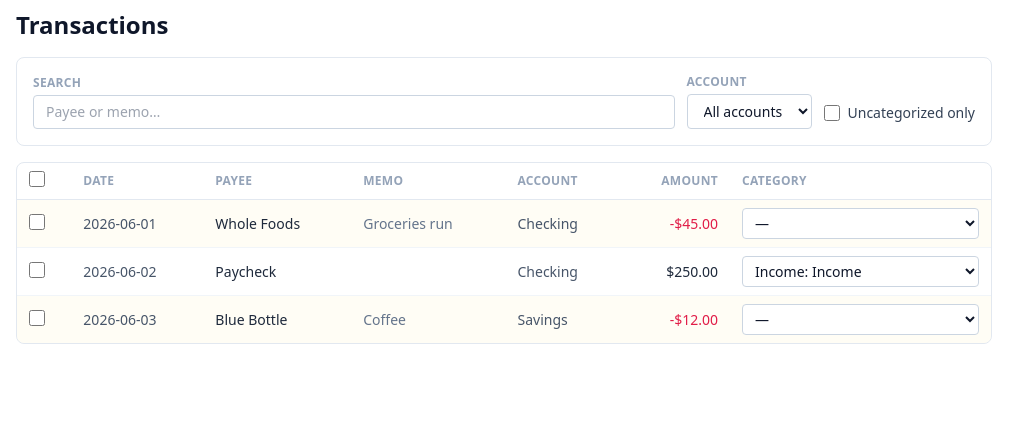
TransactionsPage › select-all header checkbox selects every row
Step 1. Click the checkbox named "Select all transactions" → (37,179), box top-left (29, 171), bottom-right (45, 187)
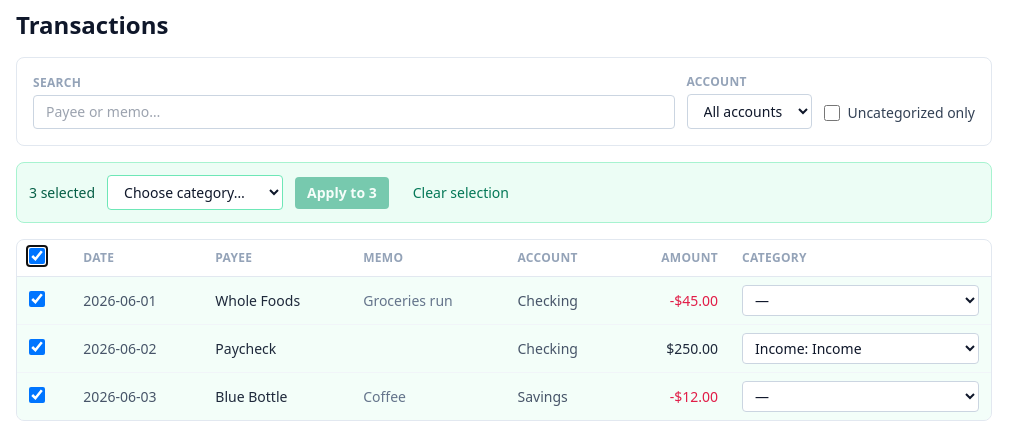
Expected: the text "3 selected" is shown, top-left (29, 182), bottom-right (95, 202)
Expected: the button "Apply to 3" is shown, top-left (295, 176), bottom-right (389, 208)
Expected: the checkbox named "Select transaction t1" is checked, top-left (29, 290), bottom-right (45, 306)
